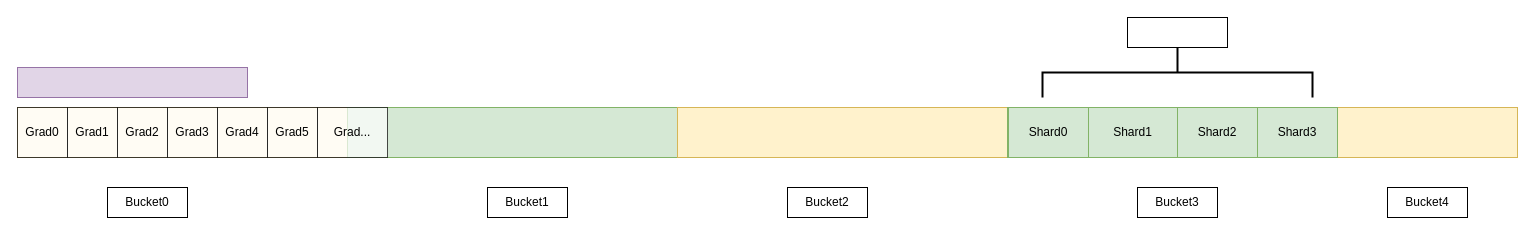
Some shapes in this 1535 by 235 pixel diagram are drawn without their labels. Each missing label, with the centre of its shape:
"Buffer 0 (param.dtype, grad.dtype)" belongs at (132,82).
"Shard By DP Size" belongs at (1177,32).
